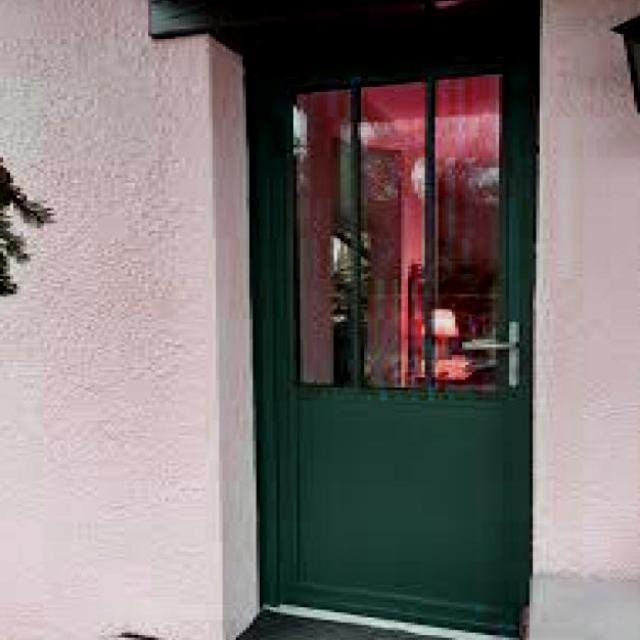door: (254, 59, 535, 635)
